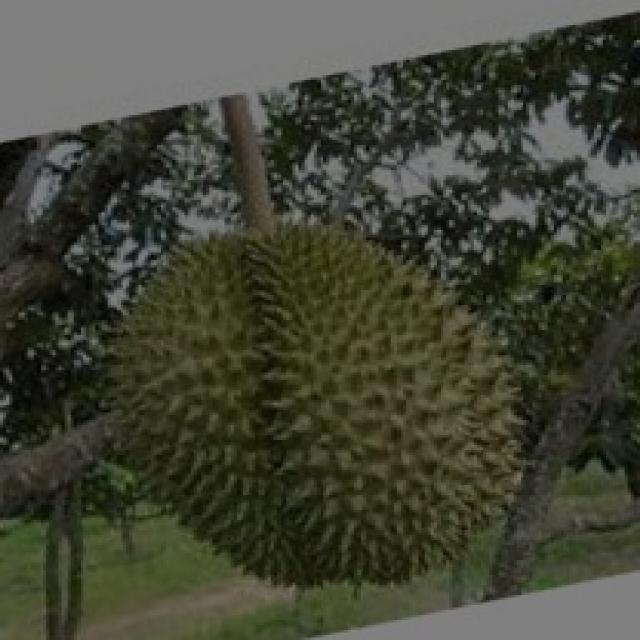fruit: (249, 180, 640, 620), (0, 175, 372, 625)
